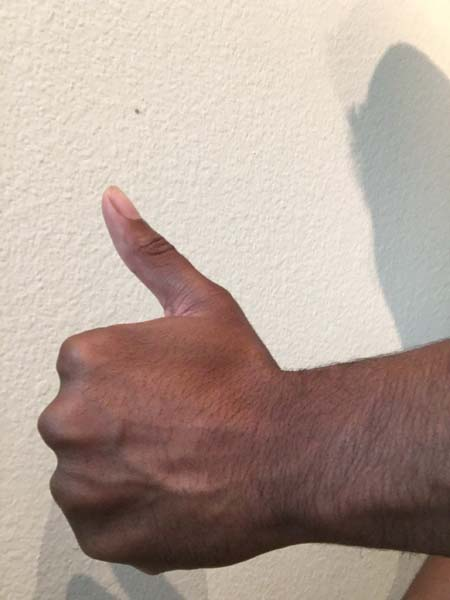Thumbs Up: (33, 181, 335, 579)
